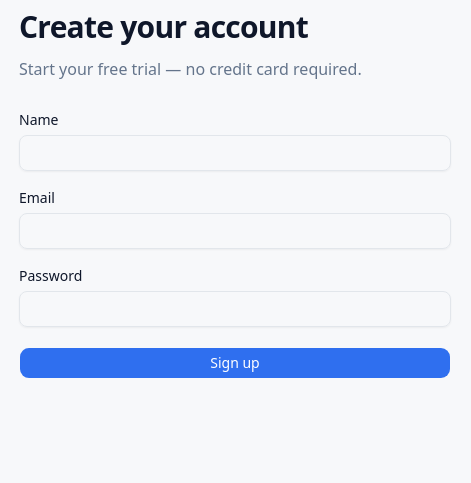
Test: Signup › shows inline validation errors instead of native browser bubbles
Click the button "Sign up" at (235, 363), box [19,347,451,379]
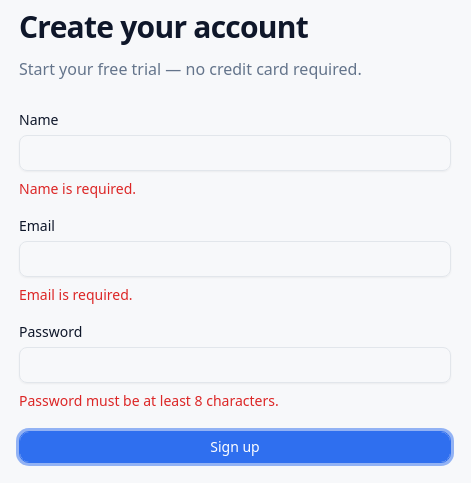
Check: the text "Name is required." is shown, box [19,179,136,198]
Check: the text "Email is required." is shown, box [19,285,133,304]
Check: the text "Password must be at least 8 characters." is shown, box [19,391,279,410]
